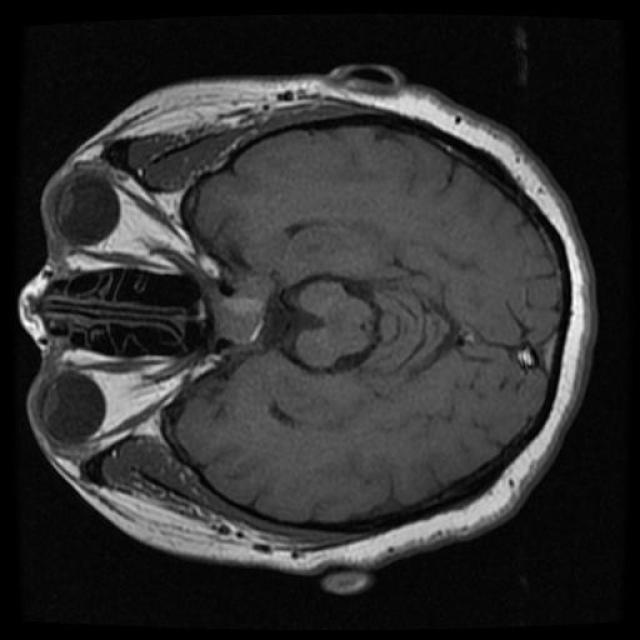Pituitary: (201, 269, 275, 345)
